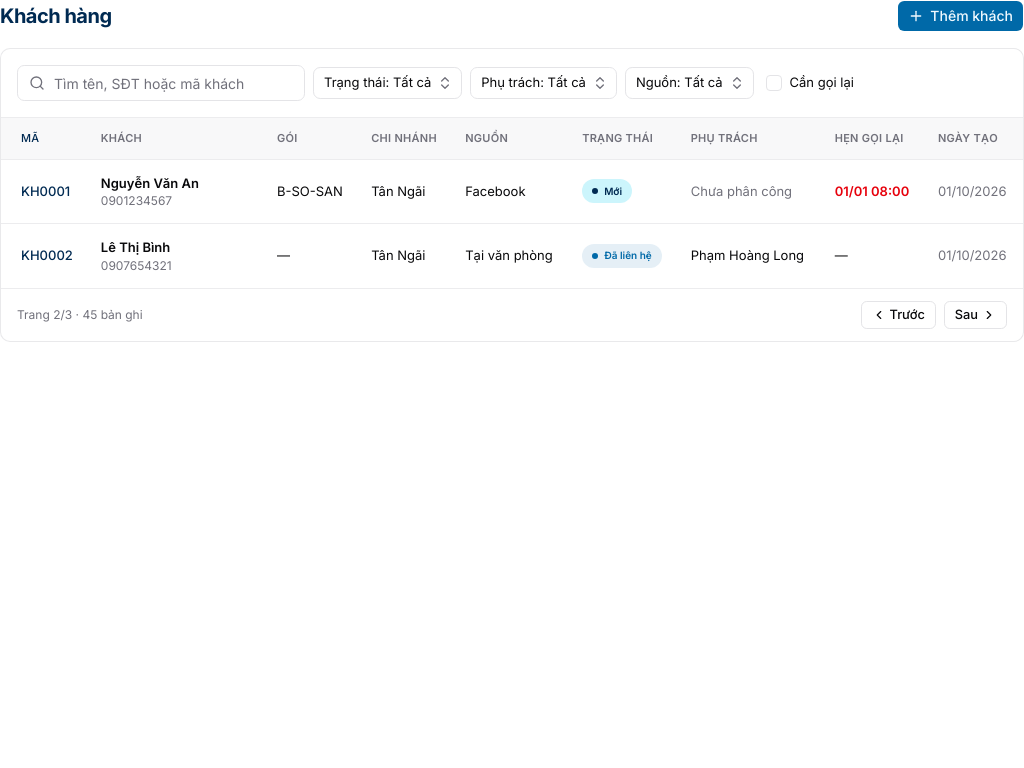
Test: LeadList › thêm khách: thiếu tên/SĐT báo lỗi tại ô, không gửi request
The width and height of the screenshot is (1024, 768).
Click the button "Thêm khách" at (961,16), box 897,0 -> 1023,32
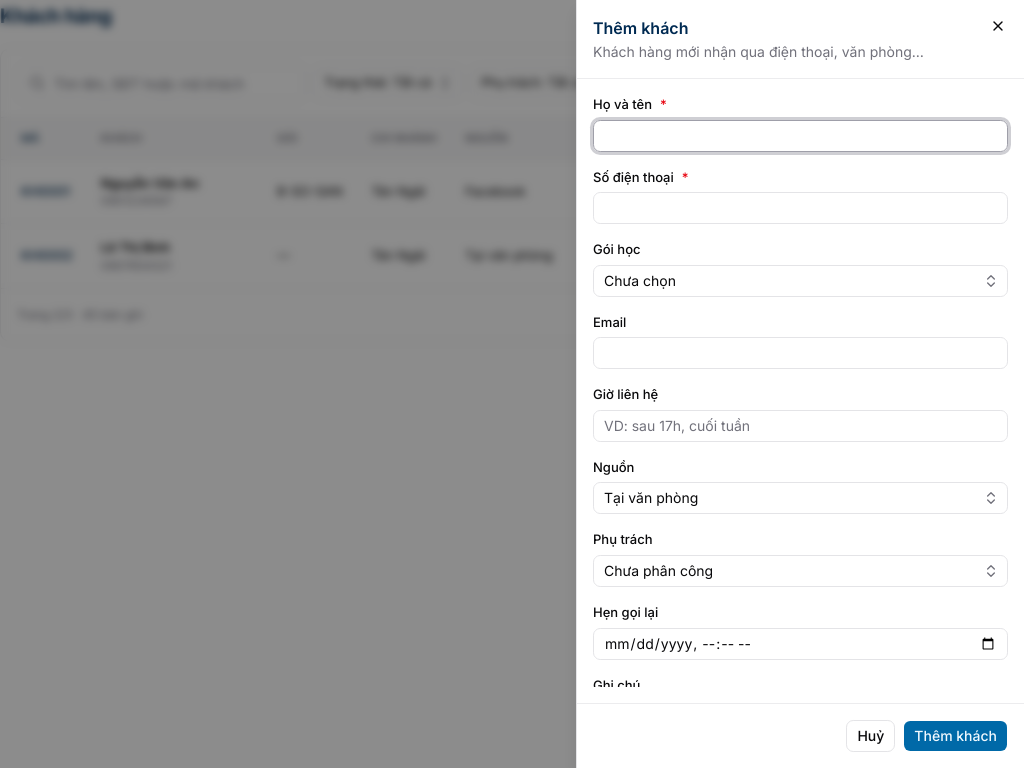
Click the button "Thêm khách" at (956,736), box 903,720 -> 1008,752
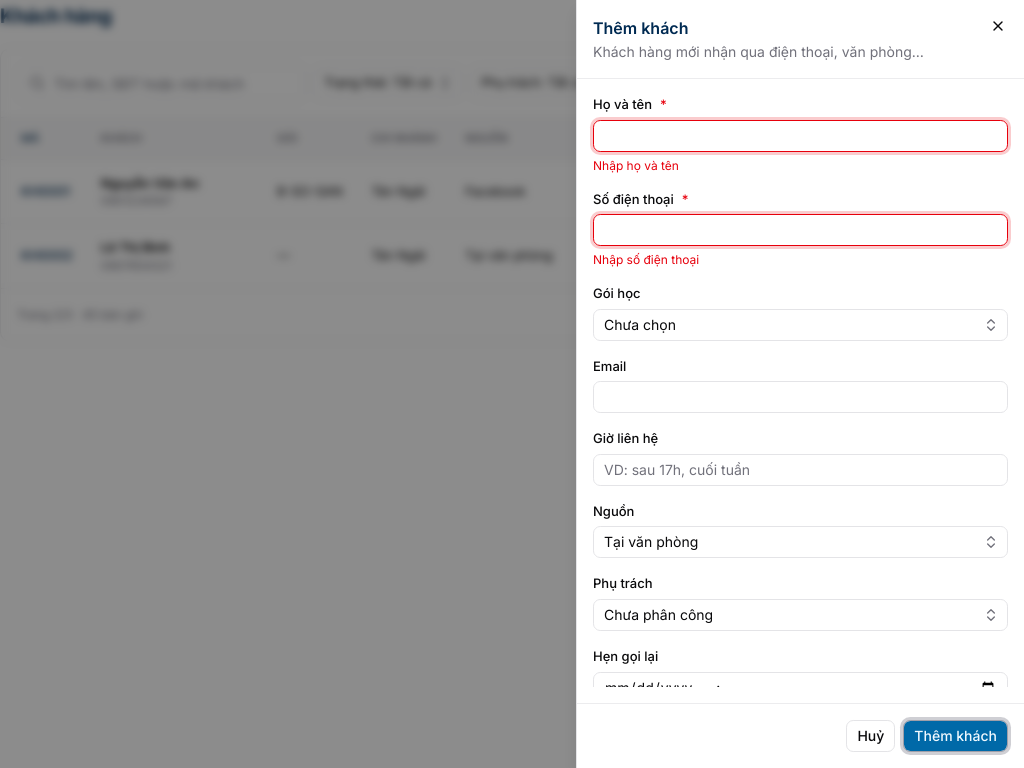
Now the text "Nhập họ và tên" is shown, box 593,158 -> 679,173
Now the text "Nhập số điện thoại" is shown, box 593,252 -> 699,267
